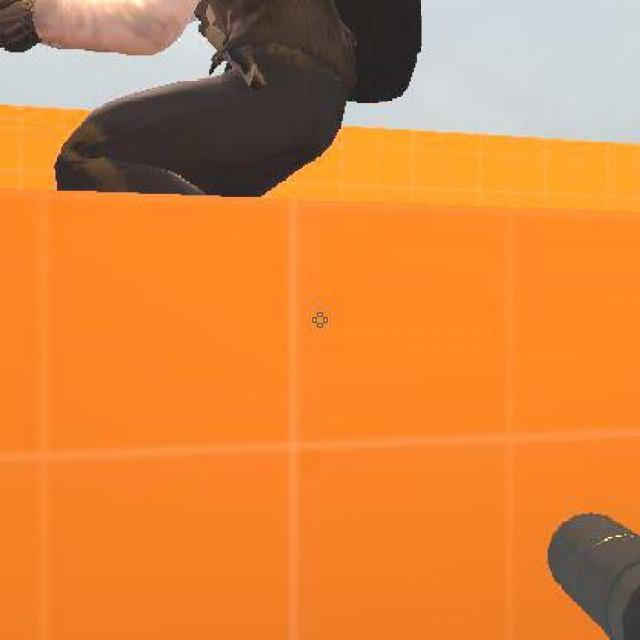T: (0, 0, 432, 198)
